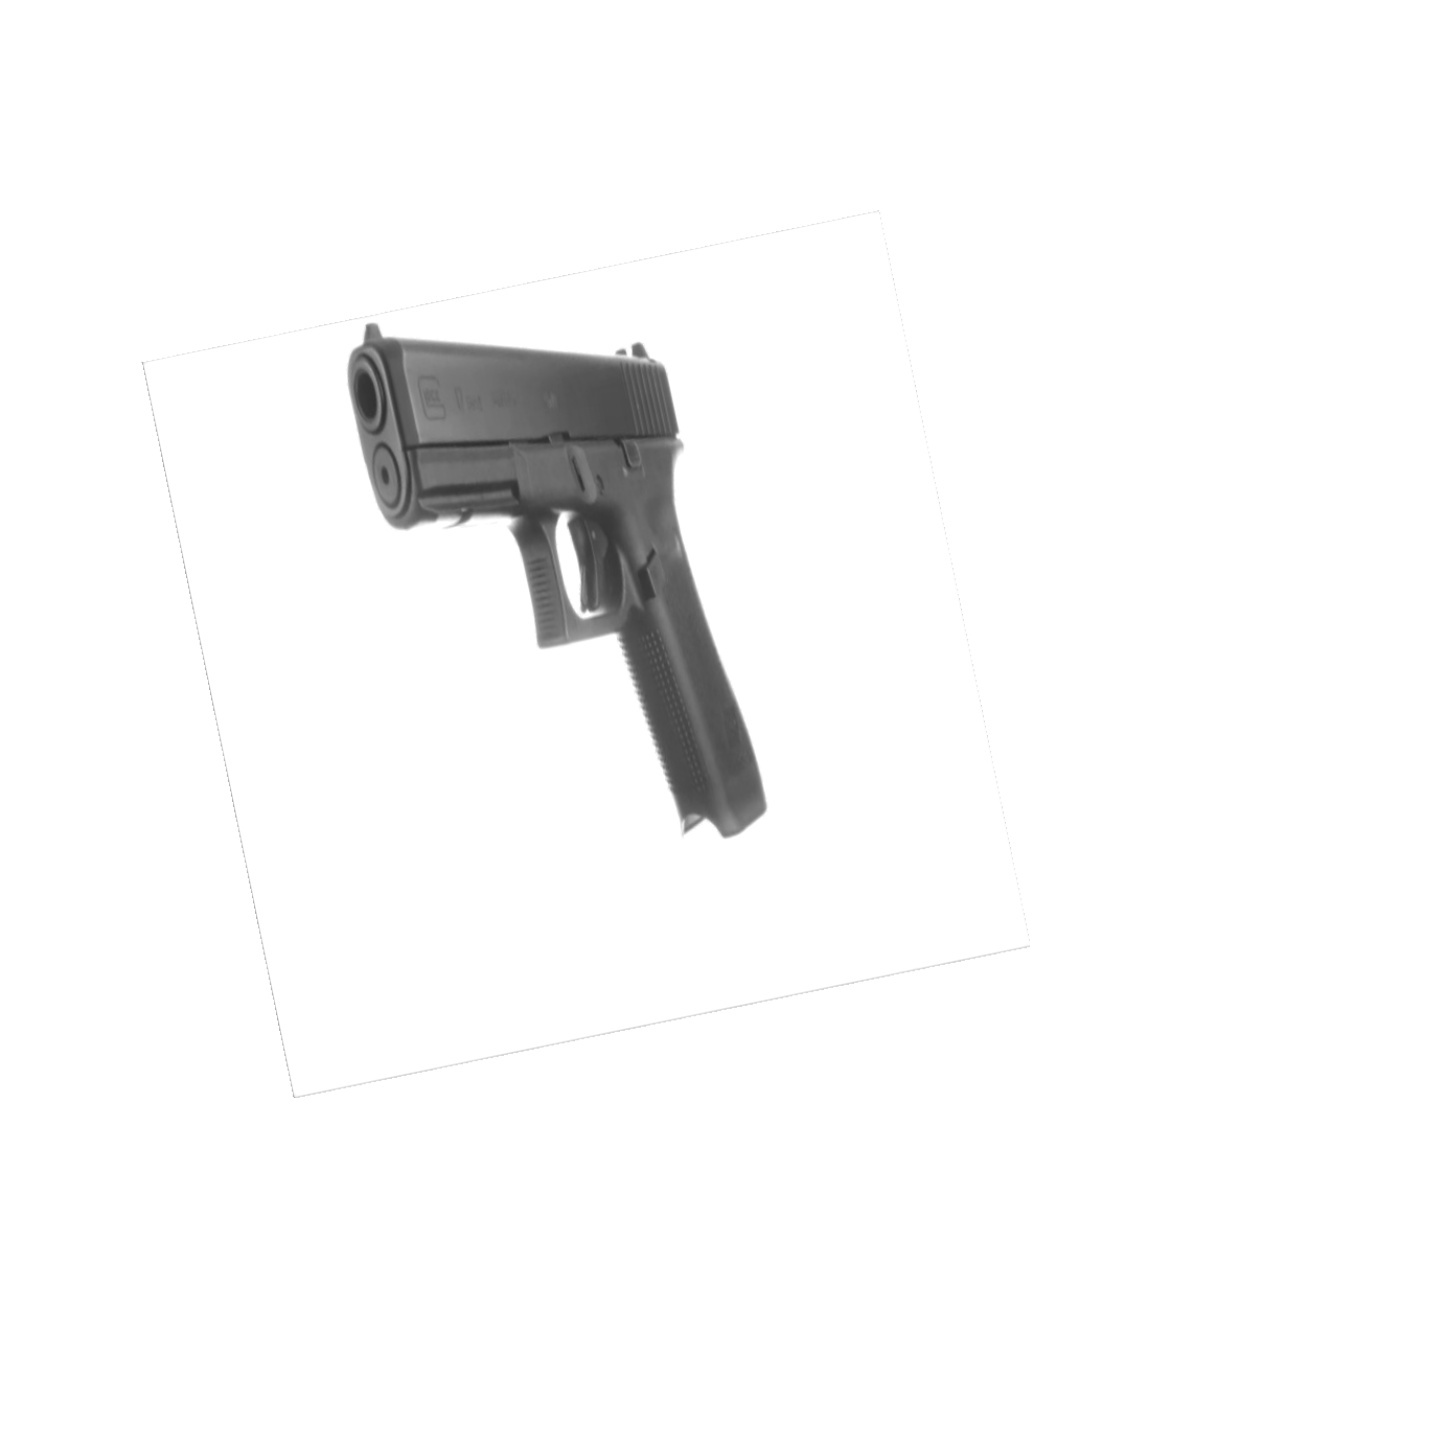gun: (346, 321, 774, 838)
